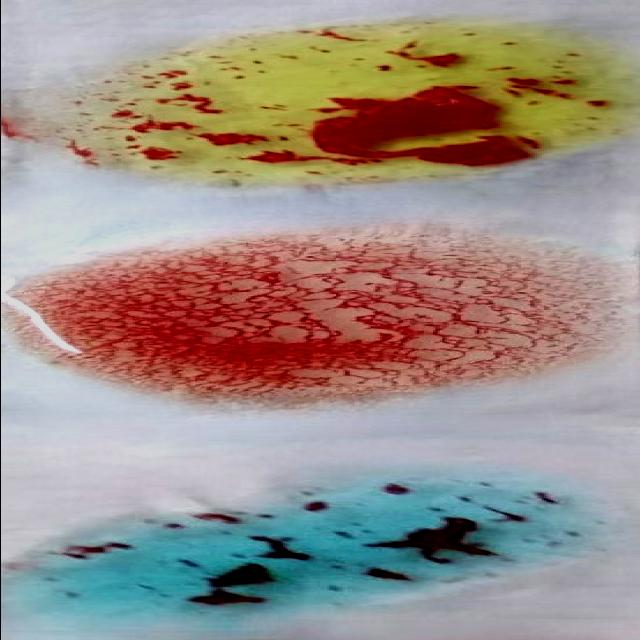A: (15, 482, 584, 608)
B: (52, 34, 640, 174)
D: (15, 252, 618, 378)
